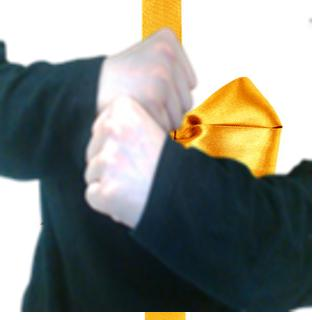CAREFUL: (78, 20, 201, 229)
